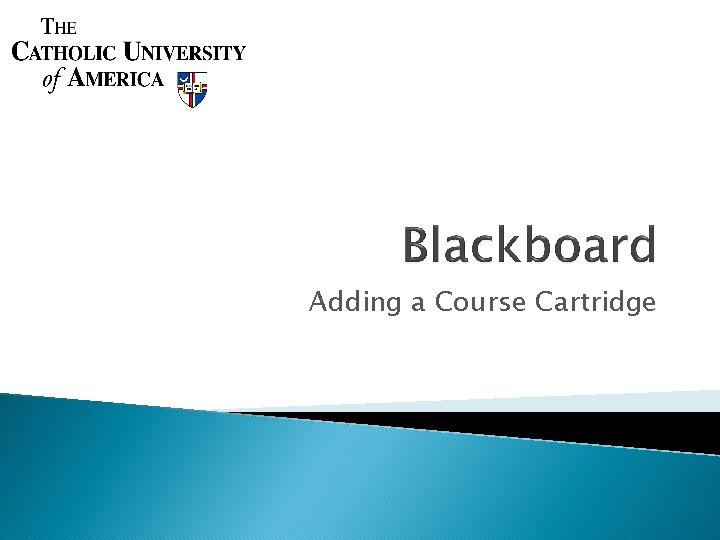title: (377, 196, 665, 278)
